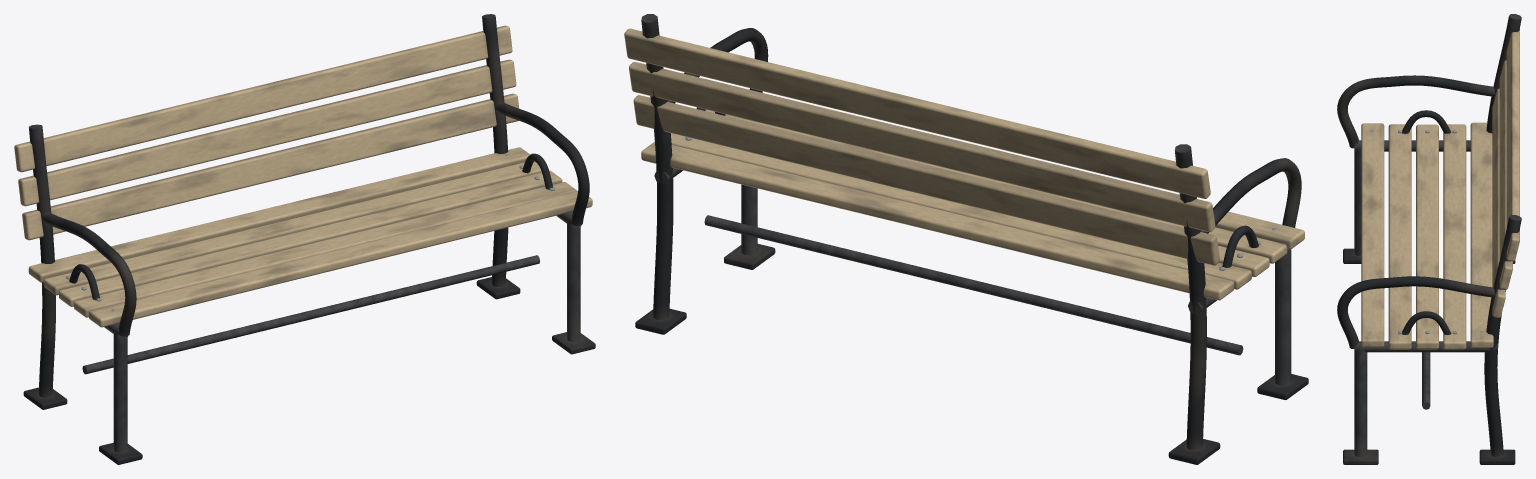
Rendered from ul_lawka.glb.
3 views of the same model, side by side, from view 1: azimuth 30°, elevation 25°; view 2: azimuth 150°, elevation 25°; view 3: azimuth 270°, elevation 25° (orthographic). The views are drawn at different scales.
Visible parts, largest first — view 1: TintDeski, Boki; view 2: TintDeski, Boki; view 3: TintDeski, Boki.
Part boxes in pixels (x1=…): TintDeski: x1=14, y1=25, x2=592, y2=327; Boki: x1=23, y1=14, x2=595, y2=464; TintDeski: x1=624, y1=28, x2=1304, y2=300; Boki: x1=635, y1=14, x2=1308, y2=464; TintDeski: x1=1361, y1=28, x2=1519, y2=349; Boki: x1=1337, y1=14, x2=1521, y2=464.
Bounding box in the file's own units: 1.74 × 0.9047 × 0.6219.
Materials: 3 (2 with a texture image).
